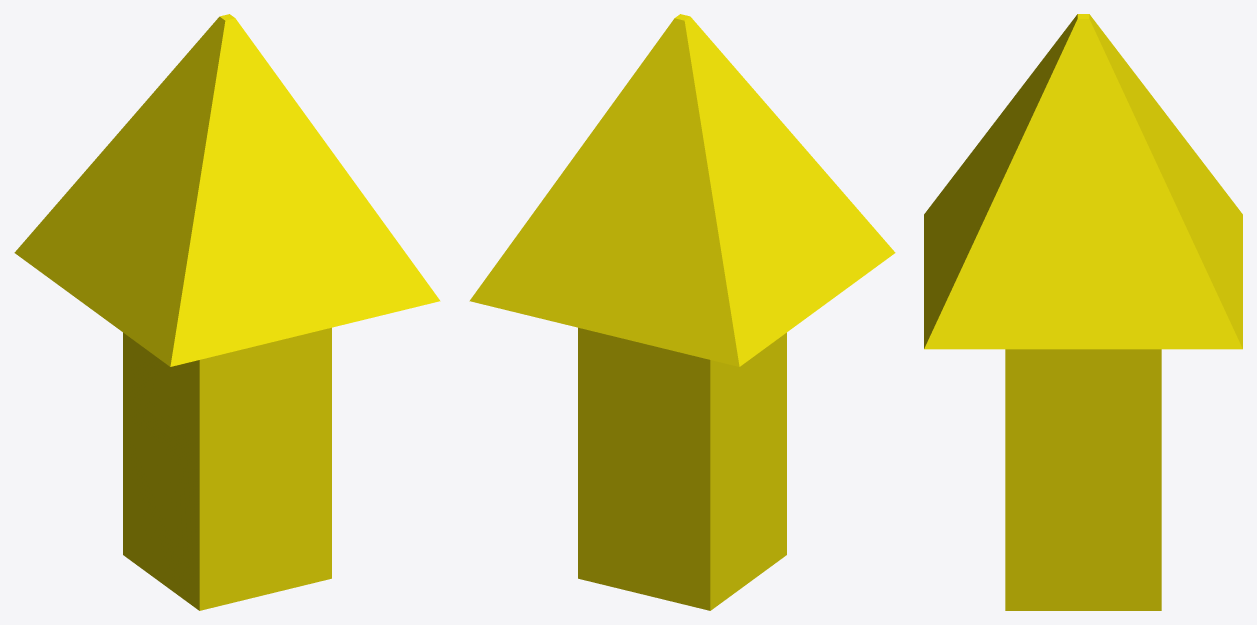
The model's file is Checkpoint arrow.fbx.
The picture shows the model from 3 angles, left to right: view 1: azimuth 30°, elevation 25°; view 2: azimuth 150°, elevation 25°; view 3: azimuth 270°, elevation 25°; orthographic projection. The views are drawn at different scales.
Parts seen in each view (by area): view 1: Cube; view 2: Cube; view 3: Cube.
Boxes of the visible parts, <box> form: Cube: <box>14,14,440,610</box>; Cube: <box>469,14,895,610</box>; Cube: <box>924,14,1242,610</box>.
Bounding box in the file's own units: 408 × 794 × 408.
